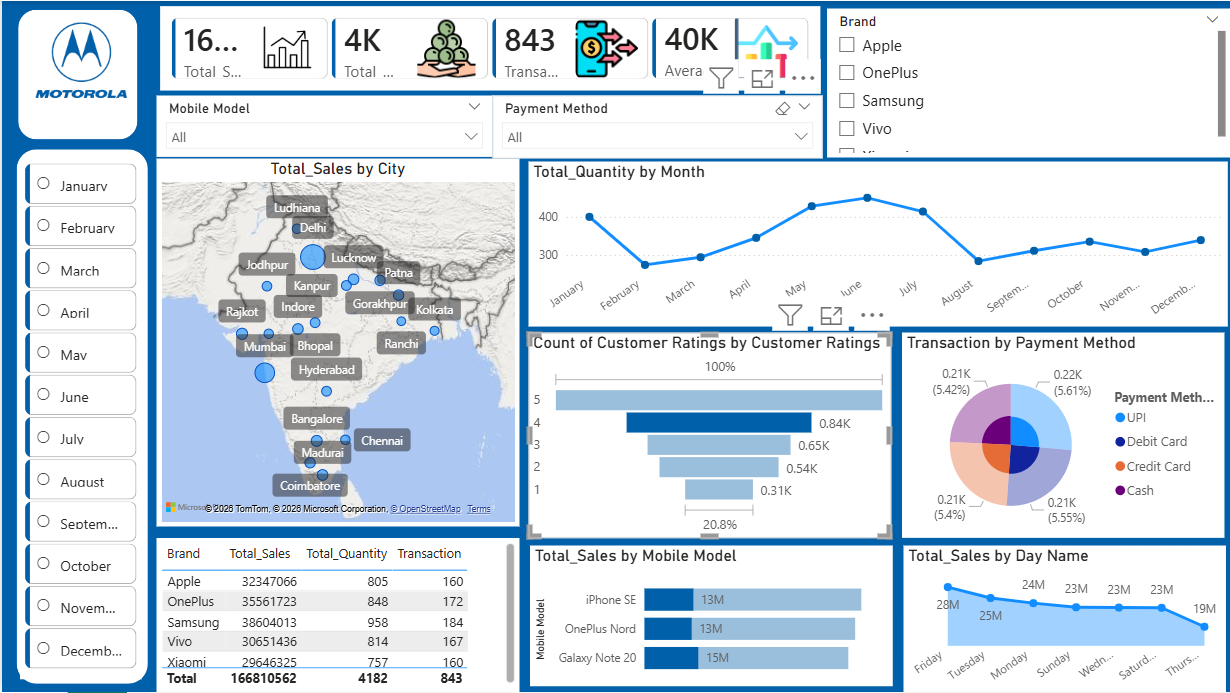

The page's visual inventory and layout, read from the dashboard file:
{"tool":"powerbi","page":{"name":"Page 1","canvas":[1280,720],"ordinal":0},"visuals":[{"type":"shape","box":[7.8,0,142.2,153.2],"z":0},{"type":"image","box":[15.6,14.1,134.4,95.3],"z":1000},{"type":"shape","box":[6.3,145.4,154.7,575.2],"z":2000},{"type":"advancedSlicerVisual","fields":{"Values":["Sheet1.Date.Variation.Date Hierarchy.Month"]},"box":[18.8,164.1,126.6,542.4],"z":3000},{"type":"cardVisual","fields":{"Data":["Sales Data.Total_Sales","Sales Data.Total_Quantity","Sales Data.Transaction","Sales Data.Average"]},"box":[161,0,698.7,98.5],"z":4000},{"type":"map","fields":{"Category":["Sales Data.City"],"Size":["Sales Data.Total_Sales"]},"box":[161,164.1,378.2,381.4],"z":5000},{"type":"lineChart","fields":{"Y":["Sales Data.Total_Quantity"],"Category":["Sales Data.Date.Variation.Date Hierarchy.Month","Sales Data.Date.Variation.Date Hierarchy.Day"]},"box":[548.6,167.2,728.4,171.9],"z":6000},{"type":"barChart","fields":{"Category":["Sales Data.Mobile Model"],"Y":["Sales Data.Total_Sales"]},"box":[550.2,567.4,378.2,146.9],"z":7000},{"type":"pieChart","title":"Transaction by Payment Method","fields":{"Category":["Sales Data.Payment Method"],"Y":["CountNonNull(Sales Data.Transaction ID)"]},"box":[937.8,345.4,336,214.1],"z":8000},{"type":"funnel","fields":{"Y":["CountNonNull(Sales Data.Customer Ratings)"],"Category":["Sales Data.Customer Ratings"]},"box":[548.6,345.4,378.2,214.1],"z":9000},{"type":"areaChart","fields":{"Category":["Sales Data.Day Name"],"Y":["Sales Data.Total_Sales"]},"box":[939.4,566.8,336,153.2],"z":10000},{"type":"tableEx","fields":{"Values":["Sales Data.Brand","Sales Data.Total_Sales","Sales Data.Total_Quantity","Sales Data.Transaction"]},"box":[161,559.5,378.2,161],"z":11000},{"type":"slicer","fields":{"Values":["Sales Data.Mobile Model"]},"box":[161,98.5,350.1,64.1],"z":12000},{"type":"slicer","fields":{"Values":["Sales Data.Payment Method"]},"box":[511.1,98.5,343.9,65.6],"z":13000},{"type":"slicer","fields":{"Values":["Sales Data.Day Name"]},"box":[894,215.7,284.5,73.5],"z":16000},{"type":"slicer","fields":{"Values":["Sales Data.Brand"]},"box":[859.6,7.8,420.4,154.7],"z":17000}]}

Visuals, with their boxes in screenshot pixels (x1, y1, x2, y2), scaled from the page's 1280x720 canvas onto the 1230x693 screenshot:
shape: 7, 0, 144, 147
image: 15, 14, 144, 105
shape: 6, 140, 155, 692
advancedSlicerVisual - Sheet1.Date.Variation.Date Hierarchy.Month: 18, 158, 140, 680
cardVisual - Sales Data.Total_Sales x Sales Data.Total_Quantity: 155, 0, 826, 95
map - Sales Data.City x Sales Data.Total_Sales: 155, 158, 518, 525
lineChart - Sales Data.Total_Quantity x Sales Data.Date.Variation.Date Hierarchy.Month: 527, 161, 1227, 326
barChart - Sales Data.Mobile Model x Sales Data.Total_Sales: 529, 546, 892, 688
"Transaction by Payment Method" pieChart: 901, 332, 1224, 539
funnel - CountNonNull(Sales Data.Customer Ratings) x Sales Data.Customer Ratings: 527, 332, 891, 539
areaChart - Sales Data.Day Name x Sales Data.Total_Sales: 903, 546, 1226, 692
tableEx - Sales Data.Brand x Sales Data.Total_Sales: 155, 539, 518, 692
slicer - Sales Data.Mobile Model: 155, 95, 491, 157
slicer - Sales Data.Payment Method: 491, 95, 822, 158
slicer - Sales Data.Day Name: 859, 208, 1132, 278
slicer - Sales Data.Brand: 826, 8, 1229, 156
